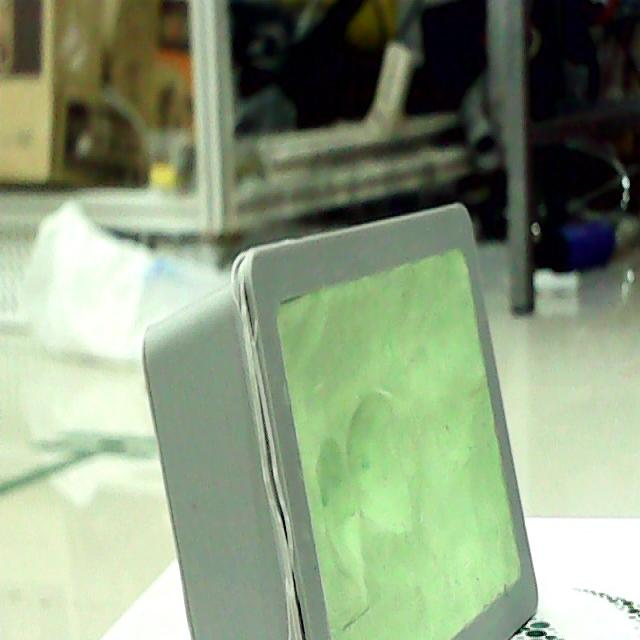block: (138, 192, 550, 640)
